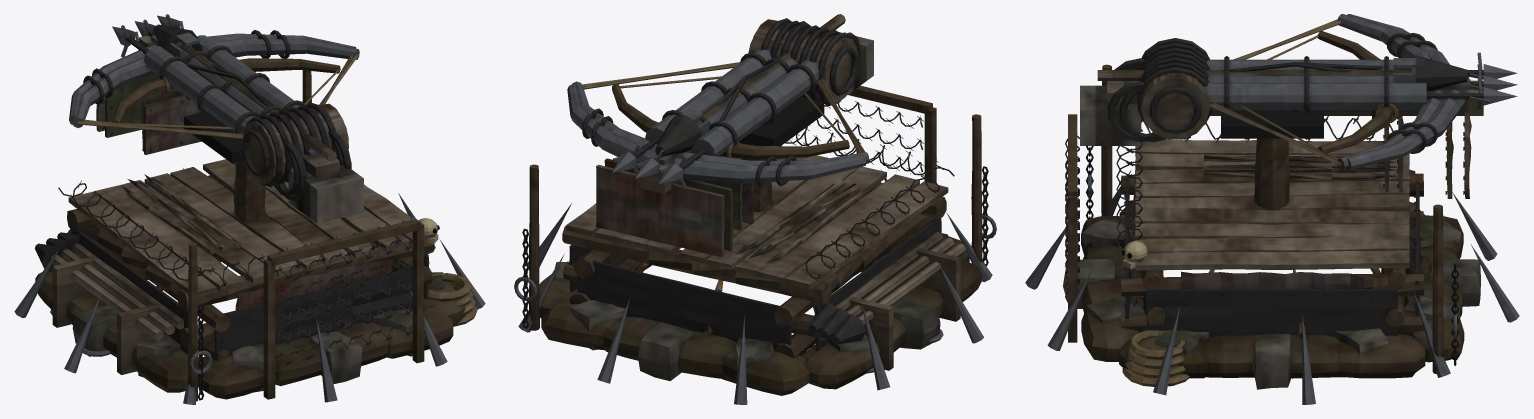
Rendered from ballista.glb.
The picture shows the model from 3 angles, left to right: view 1: azimuth 30°, elevation 25°; view 2: azimuth 150°, elevation 25°; view 3: azimuth 270°, elevation 25°; orthographic projection. The views are drawn at different scales.
Parts seen in each view (by area): view 1: Lv1, Lv4a, Lv2, Lv5a, Turret_b5, Turret_a5, Lv5b, Turret_a4, Turret_b4, Lv4b, Turret, Lv3; view 2: Lv1, Turret_a5, Lv4a, Lv2, Lv5a, Turret_b5, Turret_b4, Turret_a4, Lv4b, Turret, Lv5b, Lv3; view 3: Lv1, Lv4a, Lv2, Turret_b5, Turret_a5, Turret_a4, Turret_b4, Lv4b, Lv5a, Lv5b, Turret, Lv3.
Part boxes in pixels (x1=…): Lv1: x1=67, y1=159, x2=434, y2=362; Lv4a: x1=71, y1=190, x2=443, y2=392; Lv2: x1=35, y1=245, x2=465, y2=399; Lv5a: x1=14, y1=168, x2=485, y2=404; Turret_b5: x1=112, y1=14, x2=348, y2=210; Turret_a5: x1=69, y1=24, x2=363, y2=223; Lv5b: x1=50, y1=219, x2=424, y2=399; Turret_a4: x1=72, y1=34, x2=359, y2=222; Turret_b4: x1=134, y1=19, x2=332, y2=184; Lv4b: x1=188, y1=70, x2=477, y2=401; Turret: x1=112, y1=58, x2=340, y2=151; Lv3: x1=58, y1=180, x2=439, y2=329; Lv1: x1=562, y1=143, x2=948, y2=357; Turret_a5: x1=567, y1=14, x2=873, y2=257; Lv4a: x1=554, y1=218, x2=941, y2=381; Lv2: x1=539, y1=182, x2=981, y2=395; Lv5a: x1=518, y1=170, x2=992, y2=404; Turret_b5: x1=612, y1=18, x2=858, y2=224; Turret_b4: x1=635, y1=20, x2=840, y2=223; Turret_a4: x1=572, y1=19, x2=869, y2=251; Lv4b: x1=514, y1=114, x2=996, y2=330; Turret: x1=612, y1=76, x2=849, y2=230; Lv5b: x1=781, y1=85, x2=943, y2=373; Lv3: x1=635, y1=126, x2=954, y2=336; Lv1: x1=1121, y1=139, x2=1423, y2=334; Lv4a: x1=1063, y1=179, x2=1480, y2=389; Lv2: x1=1081, y1=179, x2=1464, y2=378; Turret_b5: x1=1137, y1=38, x2=1517, y2=191; Turret_a5: x1=1080, y1=14, x2=1483, y2=210; Turret_a4: x1=1095, y1=14, x2=1466, y2=207; Turret_b4: x1=1139, y1=42, x2=1517, y2=191; Lv4b: x1=1086, y1=64, x2=1458, y2=386; Lv5a: x1=1025, y1=169, x2=1519, y2=404; Lv5b: x1=1065, y1=114, x2=1079, y2=342; Turret: x1=1240, y1=31, x2=1403, y2=192; Lv3: x1=1116, y1=116, x2=1427, y2=338.
Size of the model in its own units: 4.33 by 2.42 by 4.33.
1 material, 1 textured.
